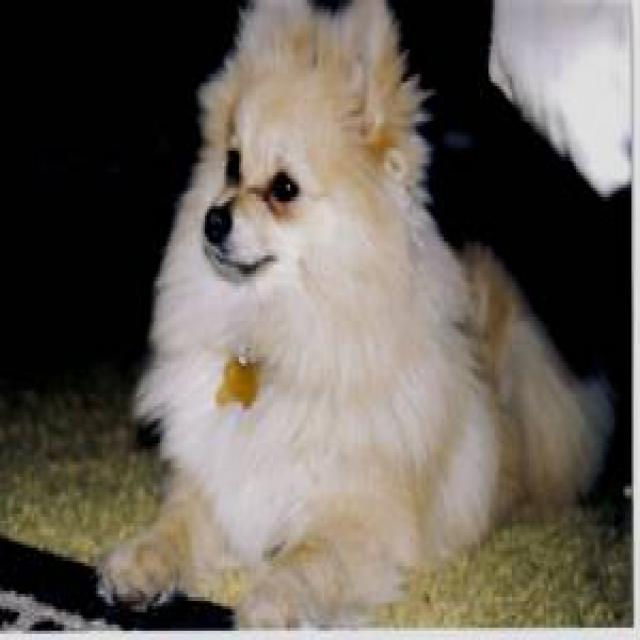dog-pomeranian: (98, 3, 608, 634)
